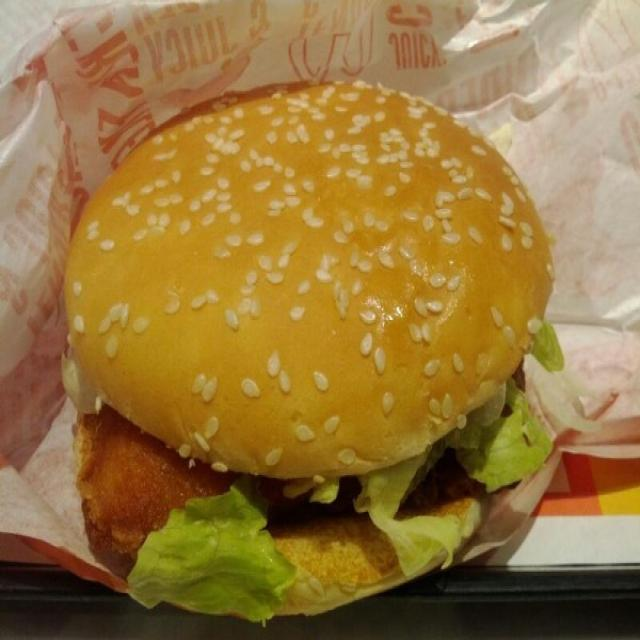Hamburger: (56, 71, 563, 611)
